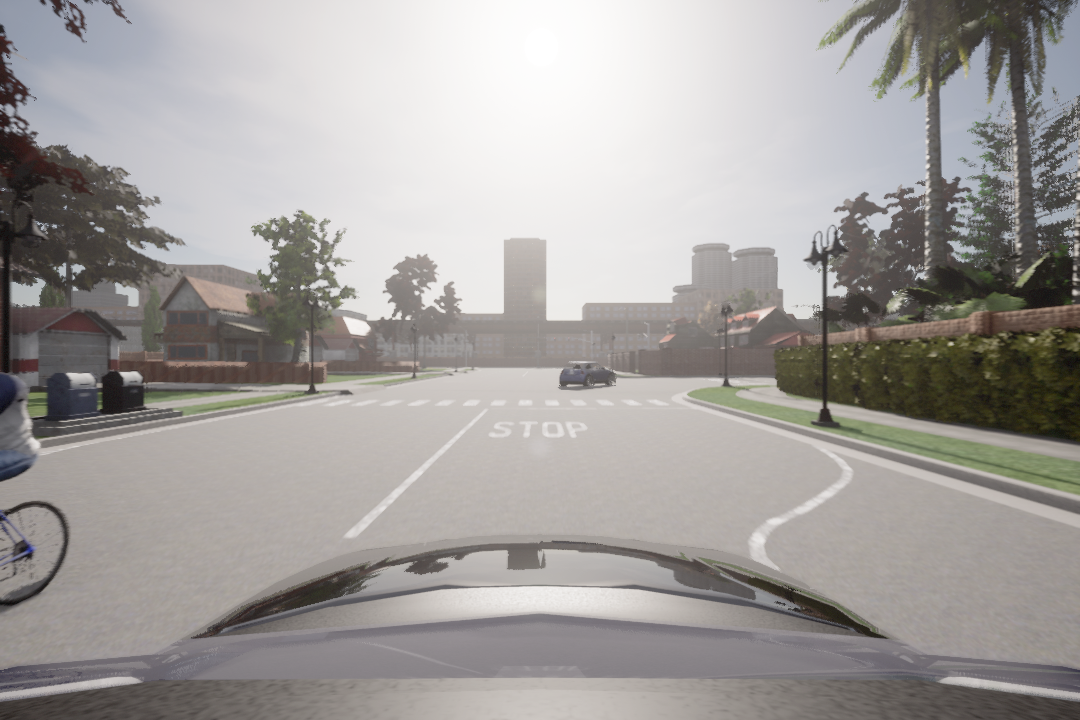walkside: (287, 395, 680, 410)
